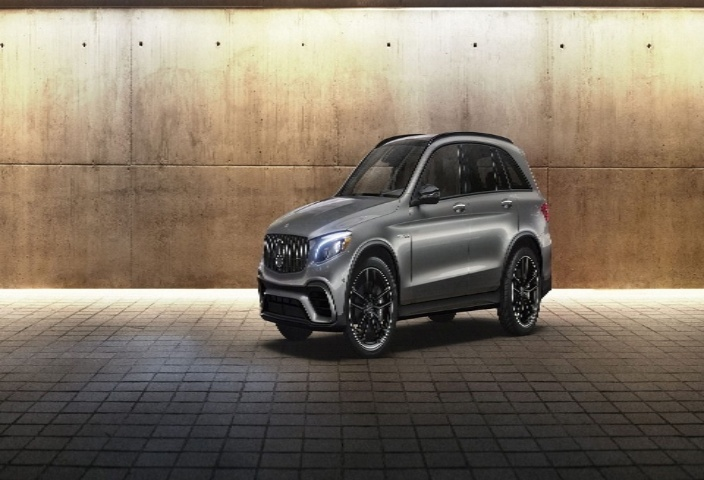camper: (228, 114, 567, 369)
